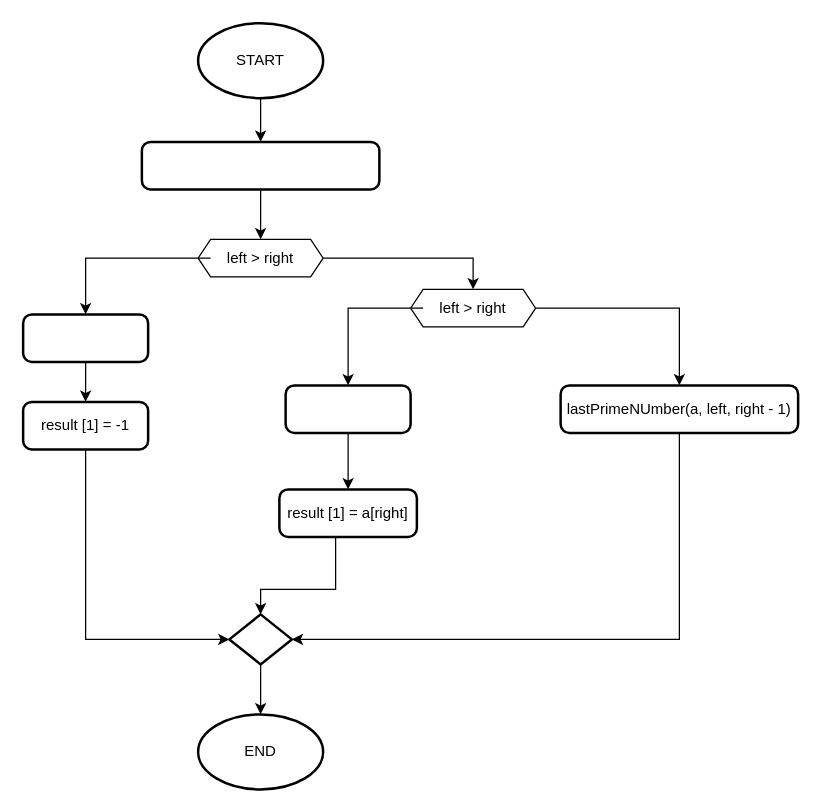
Image size: 820x811. Some labels were removed from this diagram. The shapes that lost their labels are listed below. From the top down, each one's centre as x and y in pixels, then its label:
the point at 260,165: lastPrimeNumber(a, left, right)
the point at 85,337: result [0] = -1
the point at 347,409: result [0] = right
